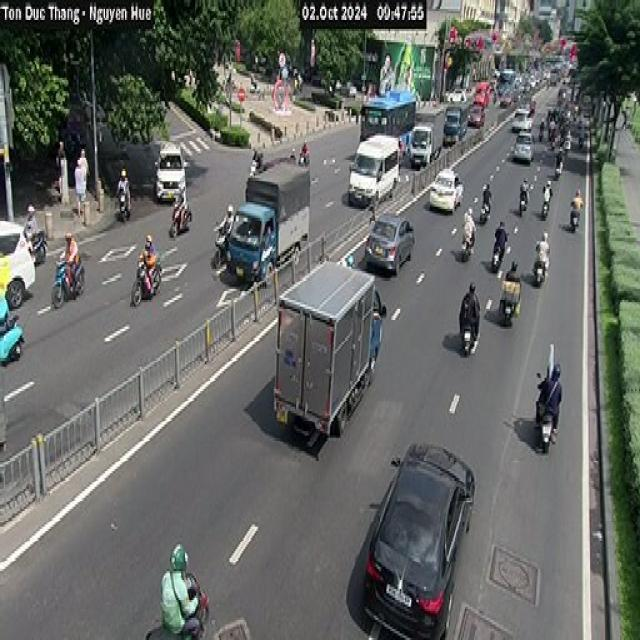bus: (355, 90, 420, 132)
car: (365, 434, 473, 640), (341, 139, 405, 208), (361, 213, 421, 274), (0, 221, 40, 309), (141, 595, 205, 640), (154, 144, 194, 194), (429, 161, 462, 216), (129, 257, 165, 302), (538, 397, 563, 458), (18, 223, 50, 266), (51, 260, 88, 296), (497, 281, 522, 329), (458, 316, 481, 365), (166, 205, 197, 240), (512, 130, 538, 167), (474, 72, 494, 108), (529, 255, 547, 294), (516, 102, 537, 134), (492, 237, 506, 274), (114, 192, 129, 225), (479, 202, 493, 235), (458, 227, 472, 259), (516, 187, 528, 220), (554, 156, 566, 188), (566, 203, 578, 232), (540, 192, 550, 220), (245, 166, 262, 181)
motorcycle: (0, 332, 31, 373), (204, 225, 227, 267)
person: (160, 542, 190, 640), (540, 361, 564, 432), (59, 235, 80, 293), (142, 233, 160, 299), (463, 279, 482, 341), (500, 255, 522, 302), (54, 136, 68, 200), (80, 138, 94, 202), (115, 167, 131, 211), (472, 286, 488, 328), (73, 164, 85, 220), (216, 199, 236, 229), (542, 225, 554, 268), (533, 235, 546, 272), (251, 140, 265, 173), (492, 221, 505, 255), (570, 189, 583, 223), (465, 205, 476, 241), (298, 142, 317, 162), (479, 182, 493, 208), (541, 175, 554, 202), (520, 174, 530, 201), (556, 156, 566, 178)
truck: (264, 261, 388, 431), (220, 164, 312, 287), (408, 110, 450, 163), (446, 102, 473, 148)
